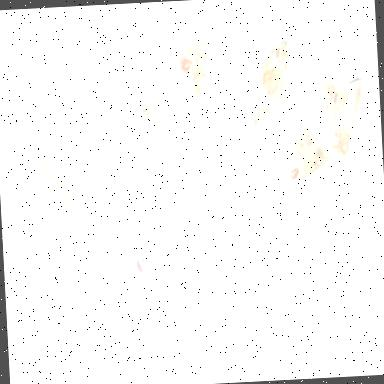abw: (130, 69, 195, 174), (213, 100, 277, 190), (60, 184, 123, 265), (14, 135, 76, 216), (130, 242, 192, 320), (319, 70, 369, 166), (274, 116, 336, 193), (244, 32, 300, 114), (168, 28, 234, 89), (176, 66, 218, 148)
